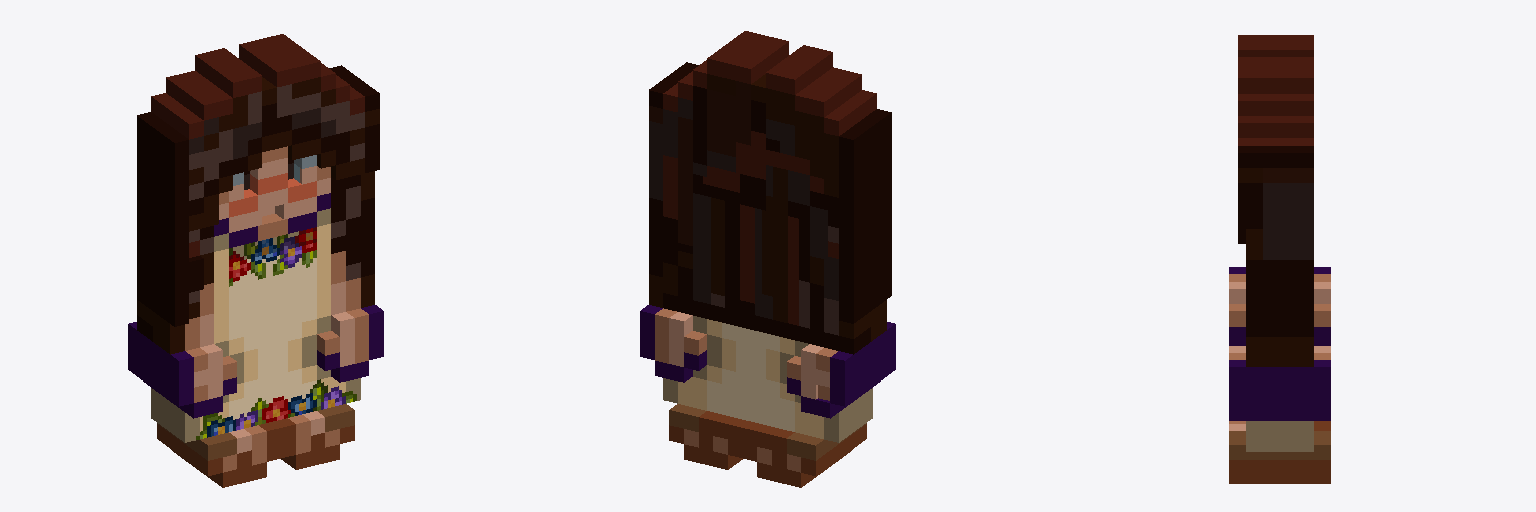
3 renders of one model, left to right at view 1: azimuth 30°, elevation 25°; view 2: azimuth 150°, elevation 25°; view 3: azimuth 270°, elevation 25°, orthographic.
Parts seen in each view (by area): view 1: object 1; view 2: object 1; view 3: object 1.
Boxes of the visible parts, <box> form: object 1: <box>128,34,383,487</box>; object 1: <box>640,31,895,487</box>; object 1: <box>1229,35,1330,483</box>.
Size of the model in its own units: 5.6 by 10.4 by 2.4.
1 materials, 1 textured.